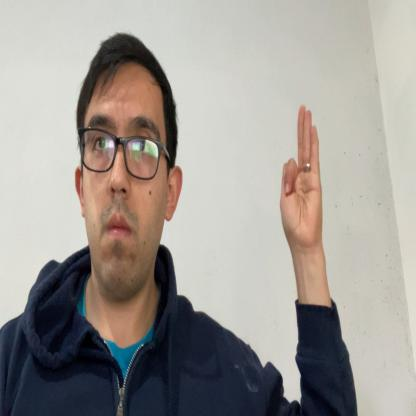F: (280, 103, 323, 242)
